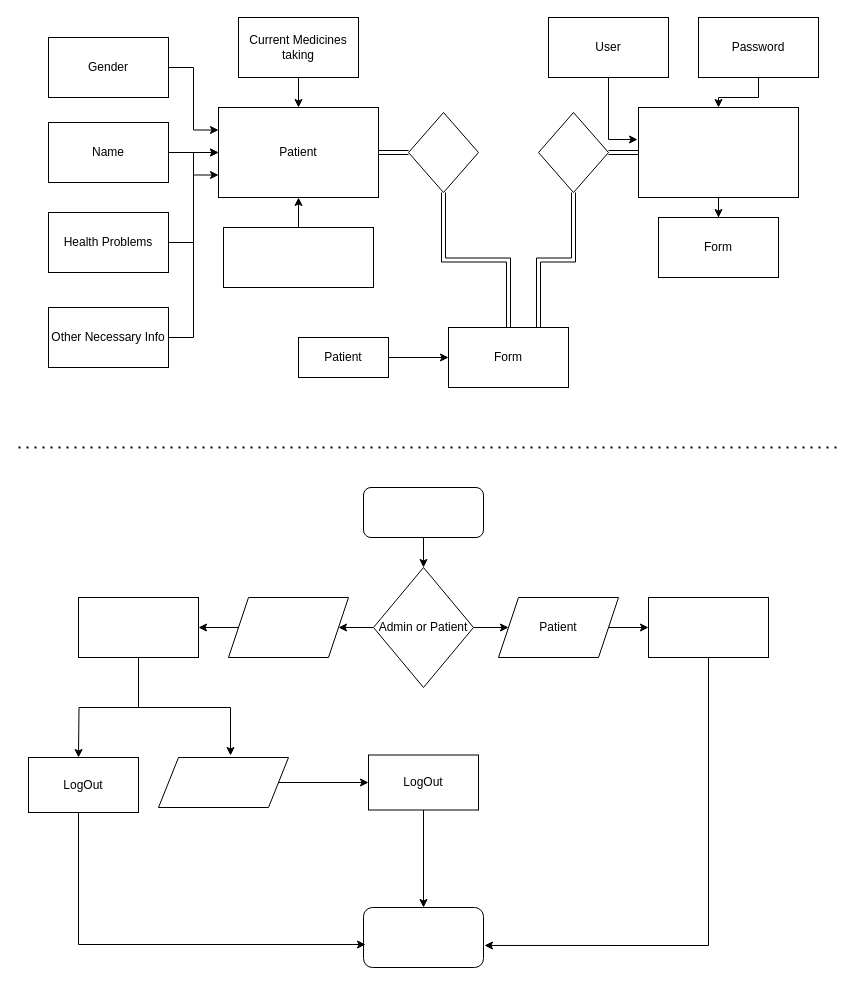
Image size: 857x985. Some labels were removed from this diagram. The centre of each missing label's shape, as x and y in pixels:
"Admin" belongs at (x=288, y=627).
"DataBase for Health Forms" belongs at (x=223, y=782).
"End" belongs at (x=423, y=937).
"Form Page" belongs at (x=708, y=627).
"HEIGHT/WEIGHT/BMI" belongs at (x=298, y=257).
"Hospital" belongs at (x=718, y=152).
"Login Page" belongs at (x=138, y=627).
"Start" belongs at (x=423, y=512).
